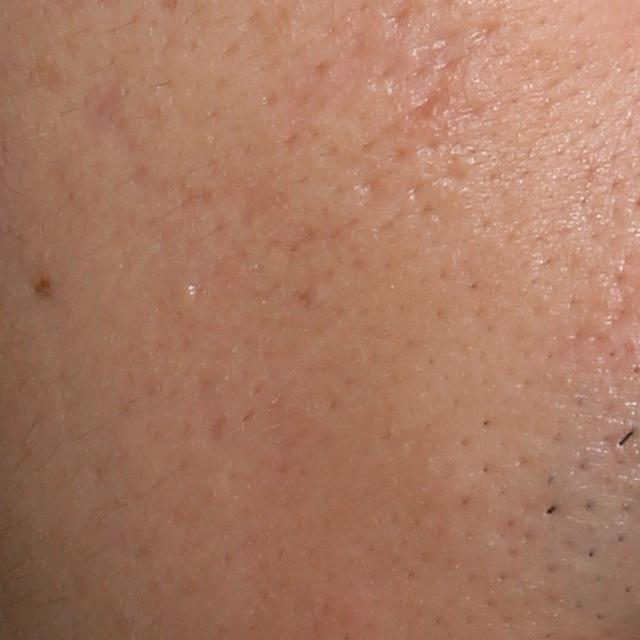atrophic_scar: (82, 73, 140, 155), (240, 177, 296, 225), (402, 82, 450, 124)
comedo: (169, 279, 200, 311)
